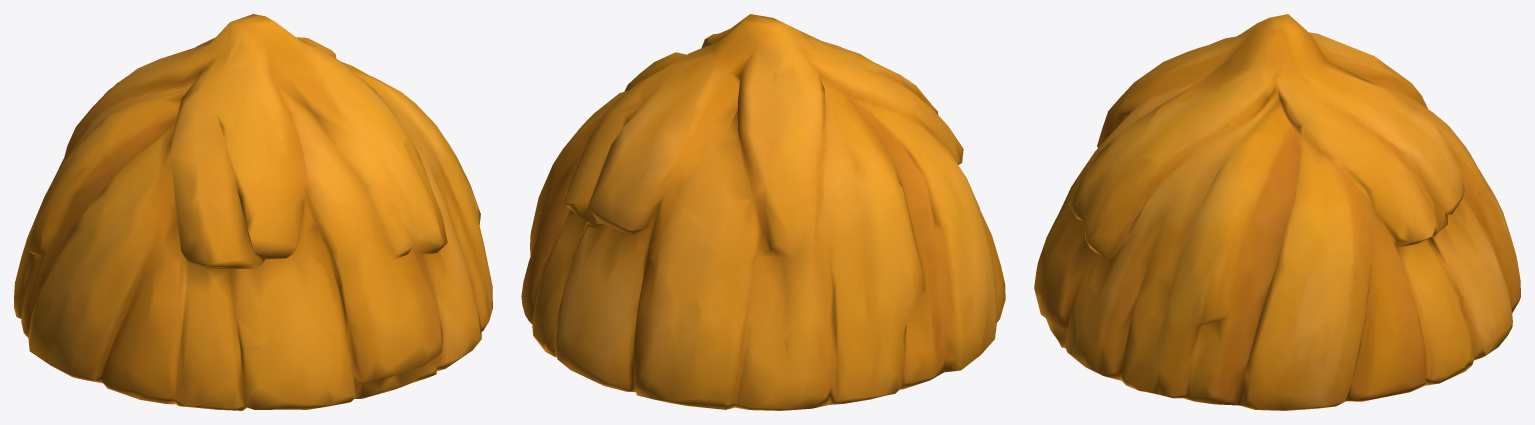
The model's file is haystack.glb.
The picture shows the model from 3 angles, left to right: view 1: azimuth 30°, elevation 25°; view 2: azimuth 150°, elevation 25°; view 3: azimuth 270°, elevation 25°; orthographic projection.
Visible parts, largest first — view 1: tripo_node_6e3b1f32-a985-41ee-9d94-4b20b3a1e5d6; view 2: tripo_node_6e3b1f32-a985-41ee-9d94-4b20b3a1e5d6; view 3: tripo_node_6e3b1f32-a985-41ee-9d94-4b20b3a1e5d6.
Boxes of the visible parts, x1,y1,x2,y2 form: tripo_node_6e3b1f32-a985-41ee-9d94-4b20b3a1e5d6: (14,14,492,410); tripo_node_6e3b1f32-a985-41ee-9d94-4b20b3a1e5d6: (521,14,1005,410); tripo_node_6e3b1f32-a985-41ee-9d94-4b20b3a1e5d6: (1034,14,1520,410).
Size of the model in its own units: 0.9984 by 0.6559 by 1.
Materials: 1 (1 with a texture image).
